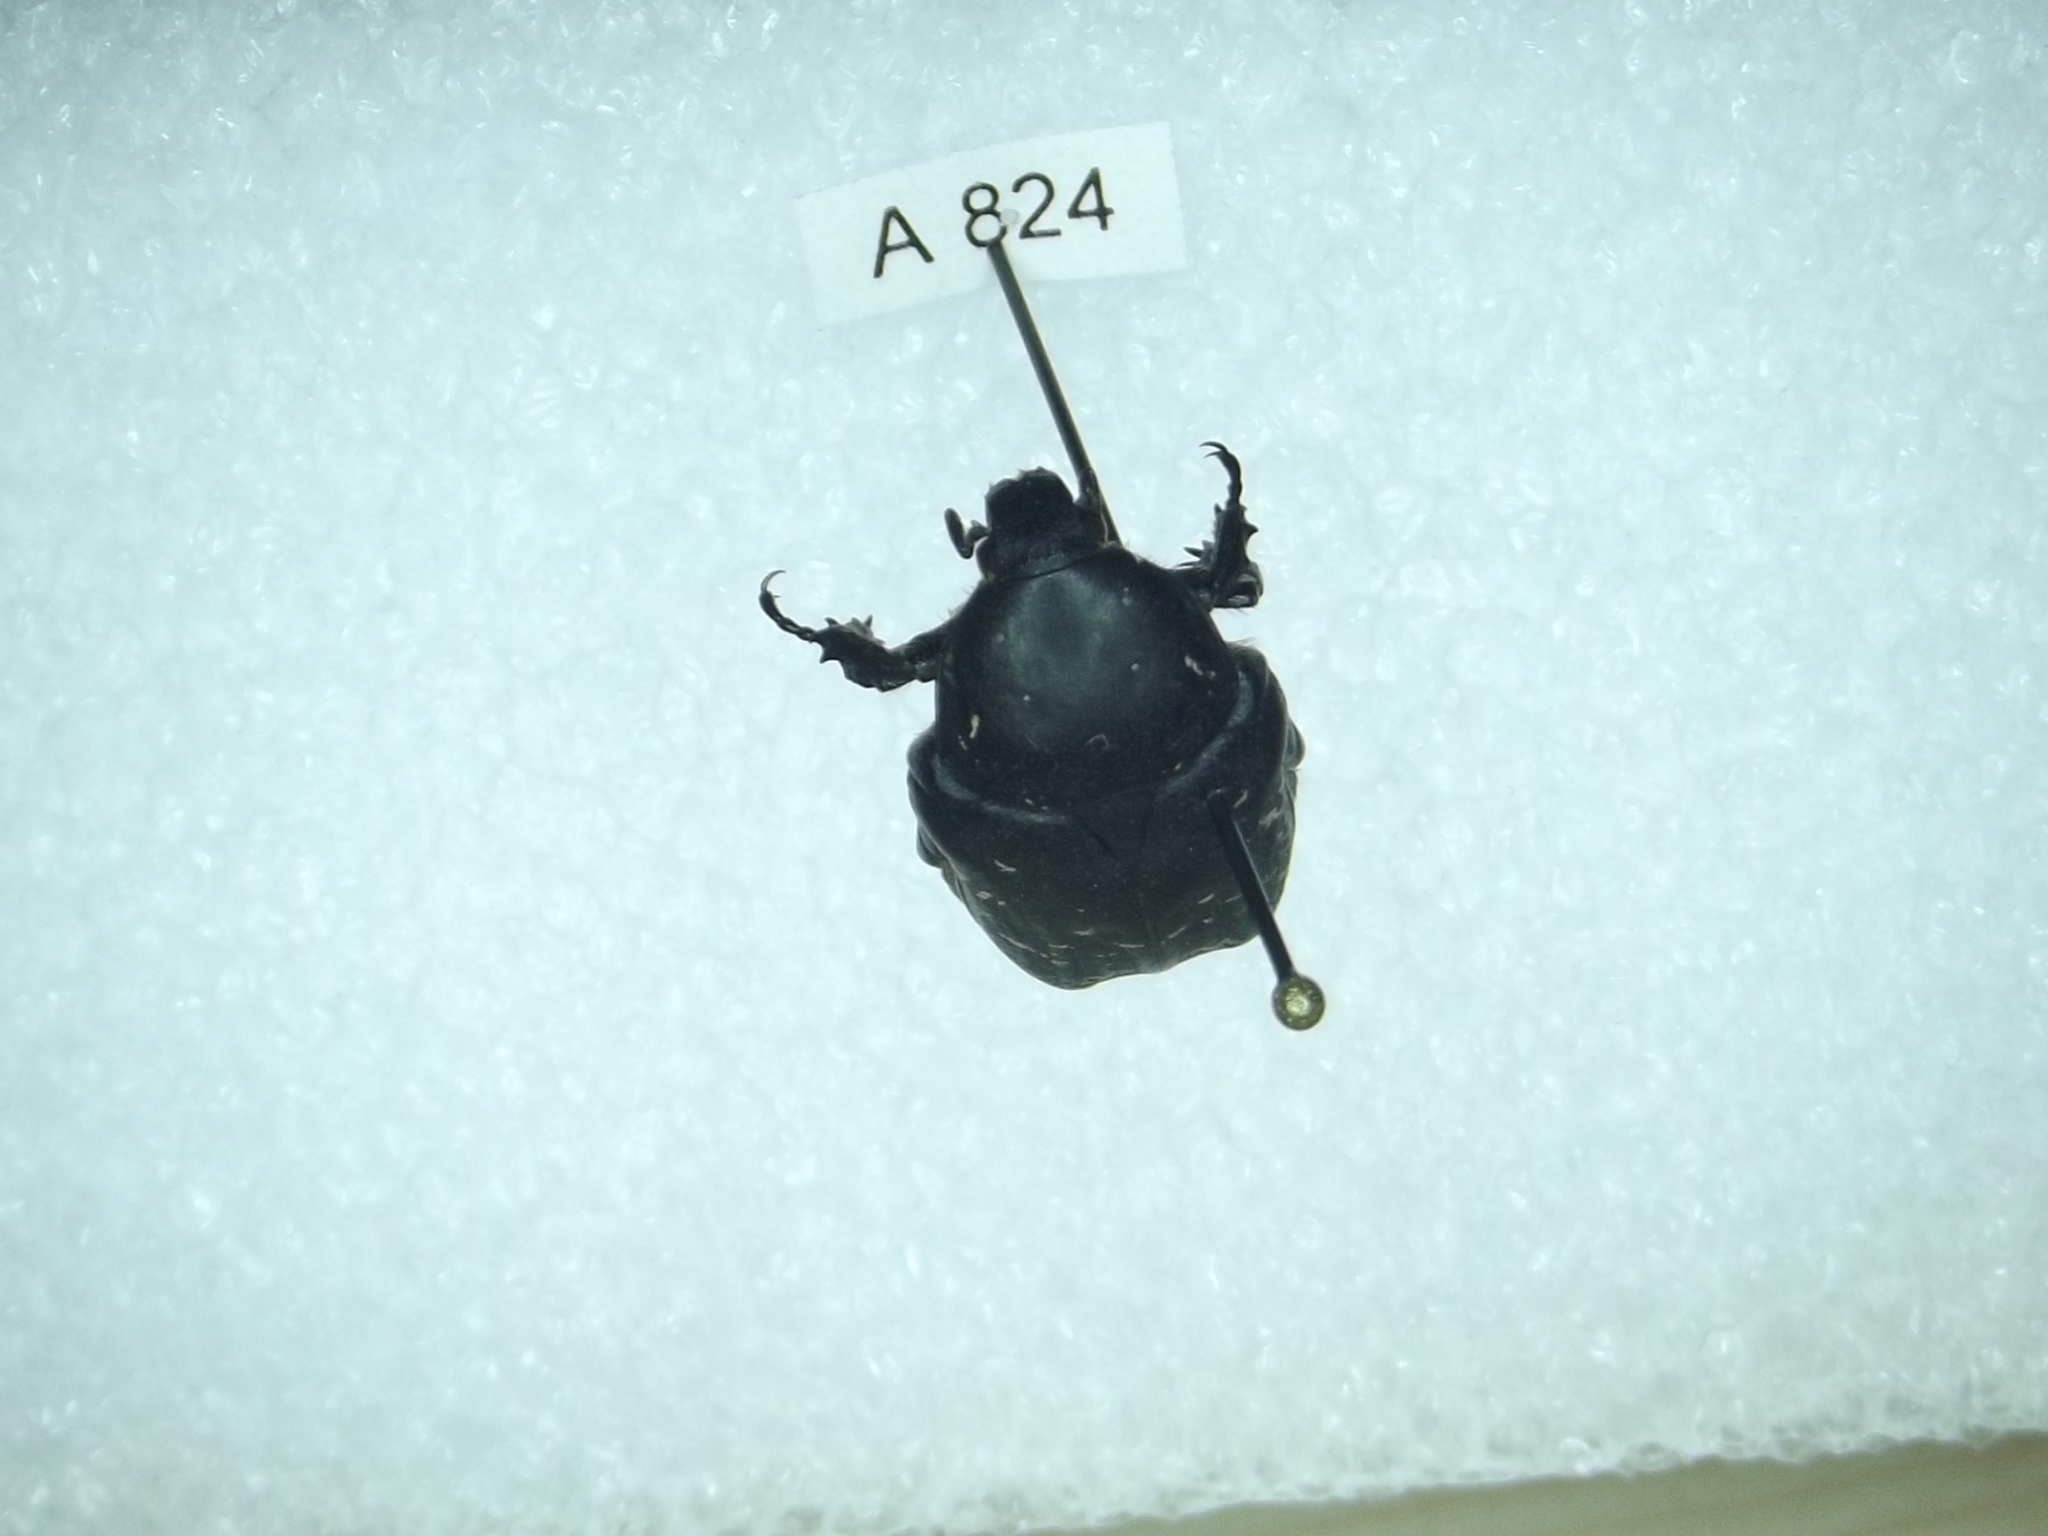Protaetia_oblonga: (755, 432, 1305, 994)
